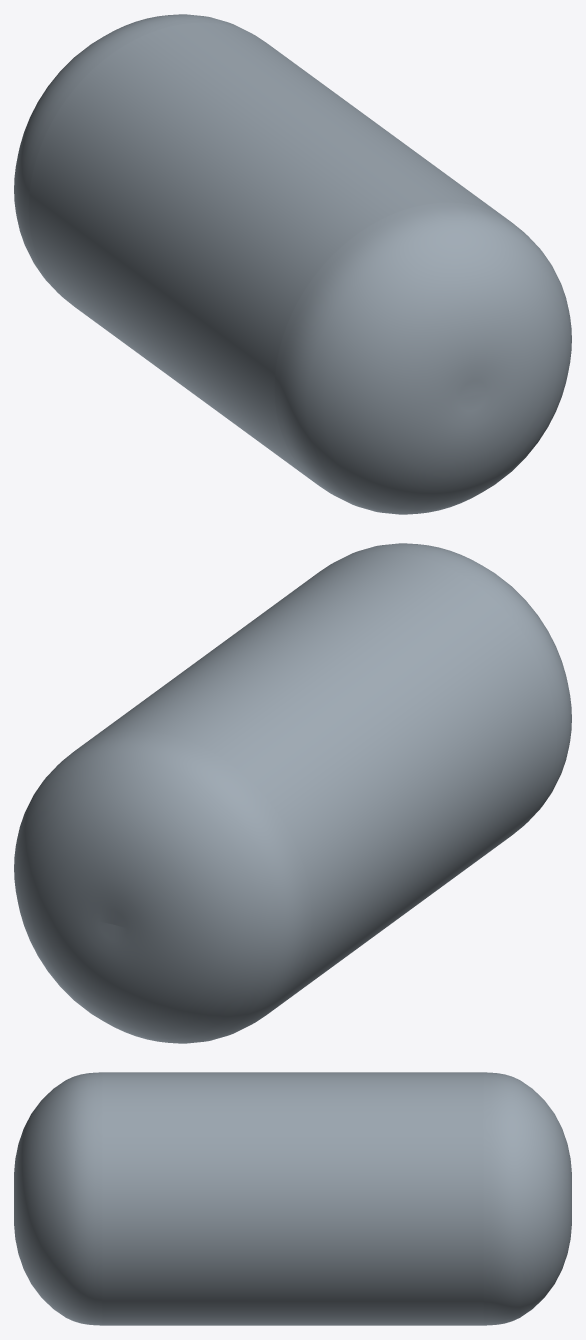
3 views of the same model, one above another, from view 1: azimuth 30°, elevation 25°; view 2: azimuth 150°, elevation 25°; view 3: azimuth 270°, elevation 25° (orthographic). The views are drawn at different scales.
Size of the model in its own units: 0.0135 by 0.0135 by 0.0297.
